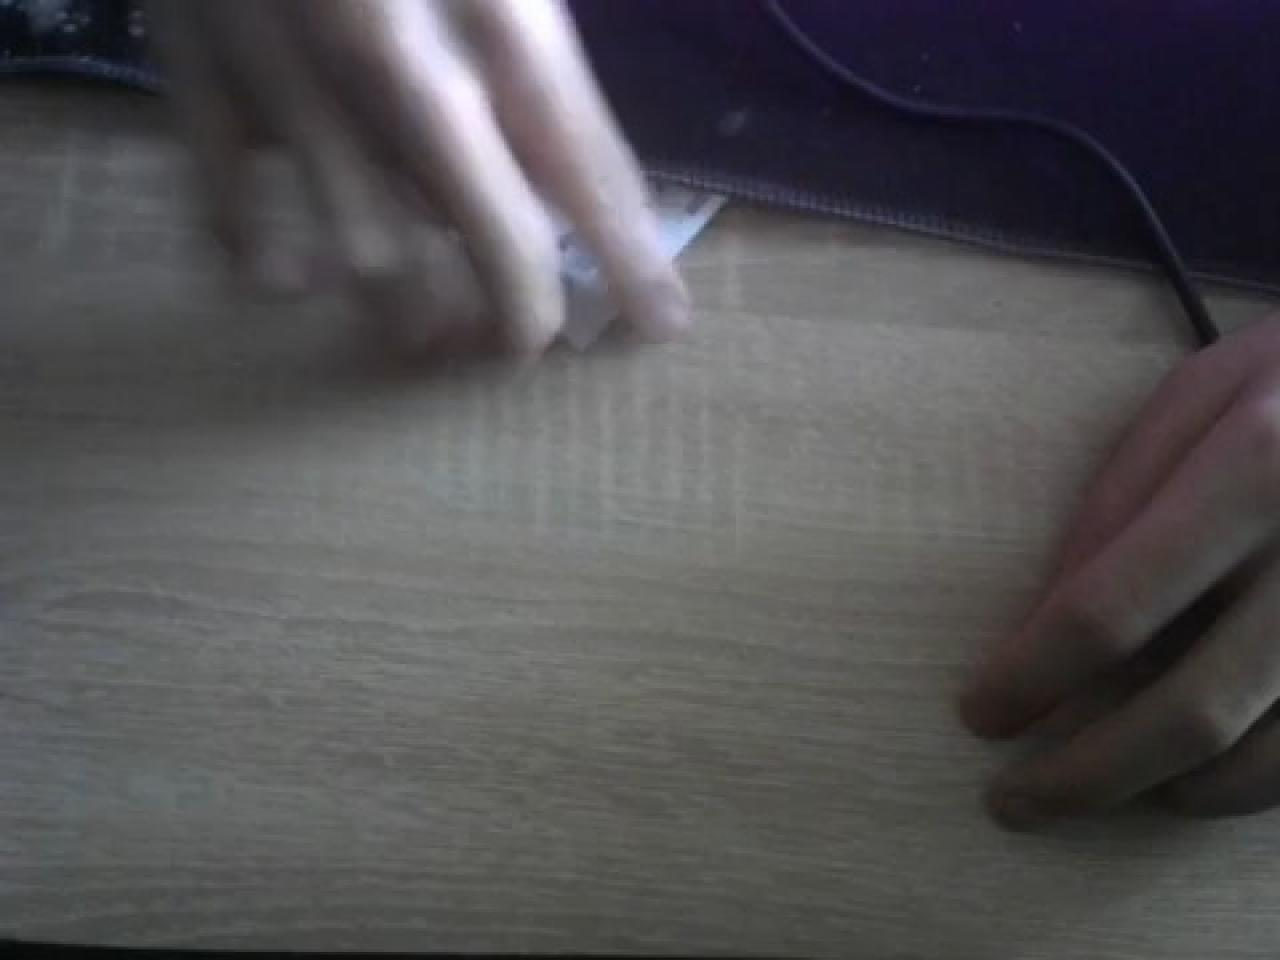20leva: (421, 0, 696, 355)
